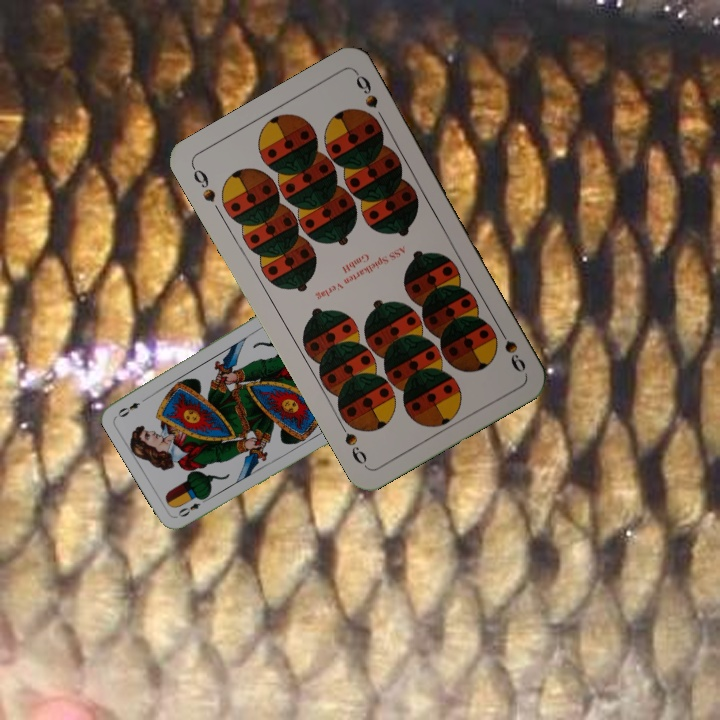EO: (174, 493, 210, 520)
S9: (493, 321, 529, 375), (188, 162, 219, 206)
